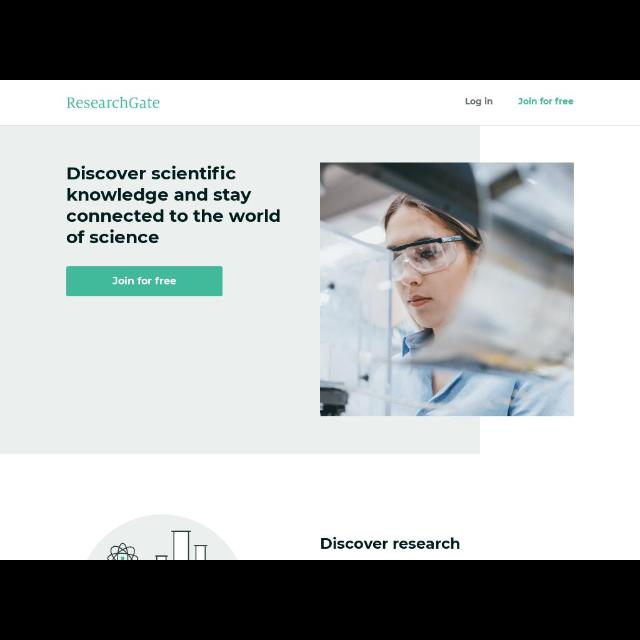image: (320, 161, 572, 417), (64, 526, 248, 558)
text: (65, 166, 282, 254), (319, 535, 459, 551), (66, 98, 158, 110), (518, 96, 574, 108), (463, 98, 493, 104)
textbutton: (68, 266, 220, 296)
toolbar: (3, 83, 637, 123)
